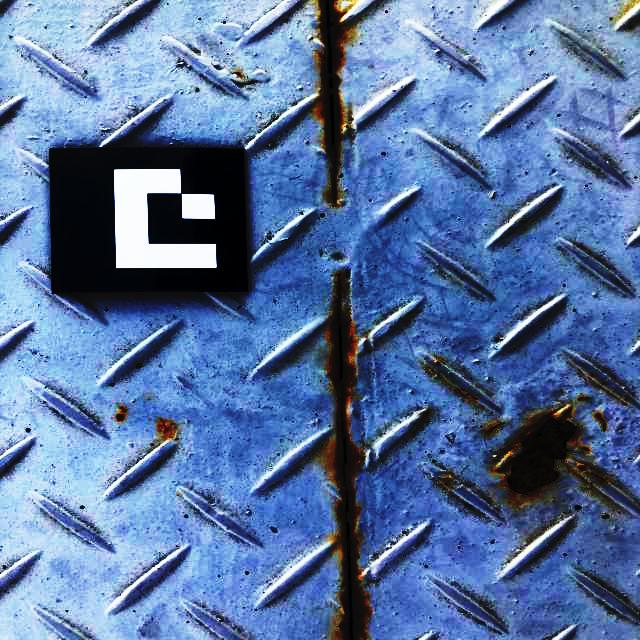Corrosion: (314, 269, 369, 640), (498, 403, 577, 495), (311, 0, 345, 206), (579, 464, 607, 483), (569, 432, 592, 451), (156, 419, 171, 435), (594, 413, 606, 432), (115, 414, 124, 421)
